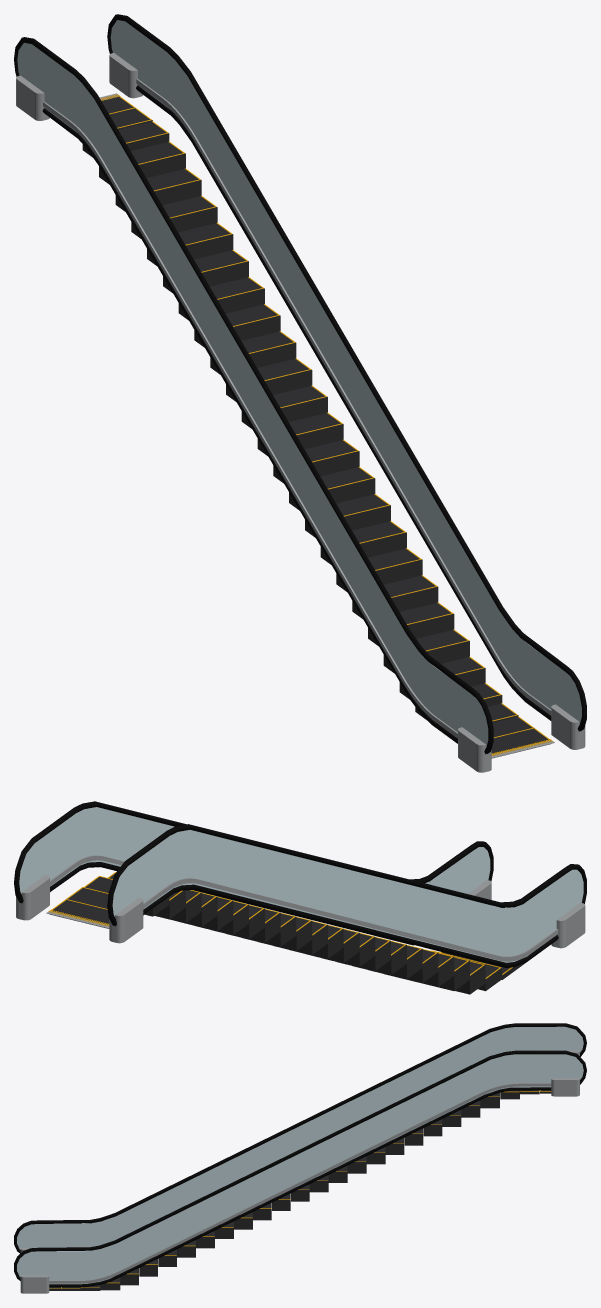
File: gteki_ik_escalator_w986_rise4388_a2856.glb
3 renders of one model, top to bottom at view 1: azimuth 30°, elevation 25°; view 2: azimuth 150°, elevation 25°; view 3: azimuth 270°, elevation 25°, orthographic. The views are drawn at different scales.
Parts seen in each view (by area): view 1: VIS_body; view 2: VIS_body; view 3: VIS_body.
Boxes of the visible parts, x1,y1,x2,y2 form: VIS_body: (14, 14, 586, 772); VIS_body: (14, 801, 586, 994); VIS_body: (14, 1023, 586, 1293).
Size of the model in its own units: 1.51 by 5.41 by 11.56.
2 materials, 2 textured.
